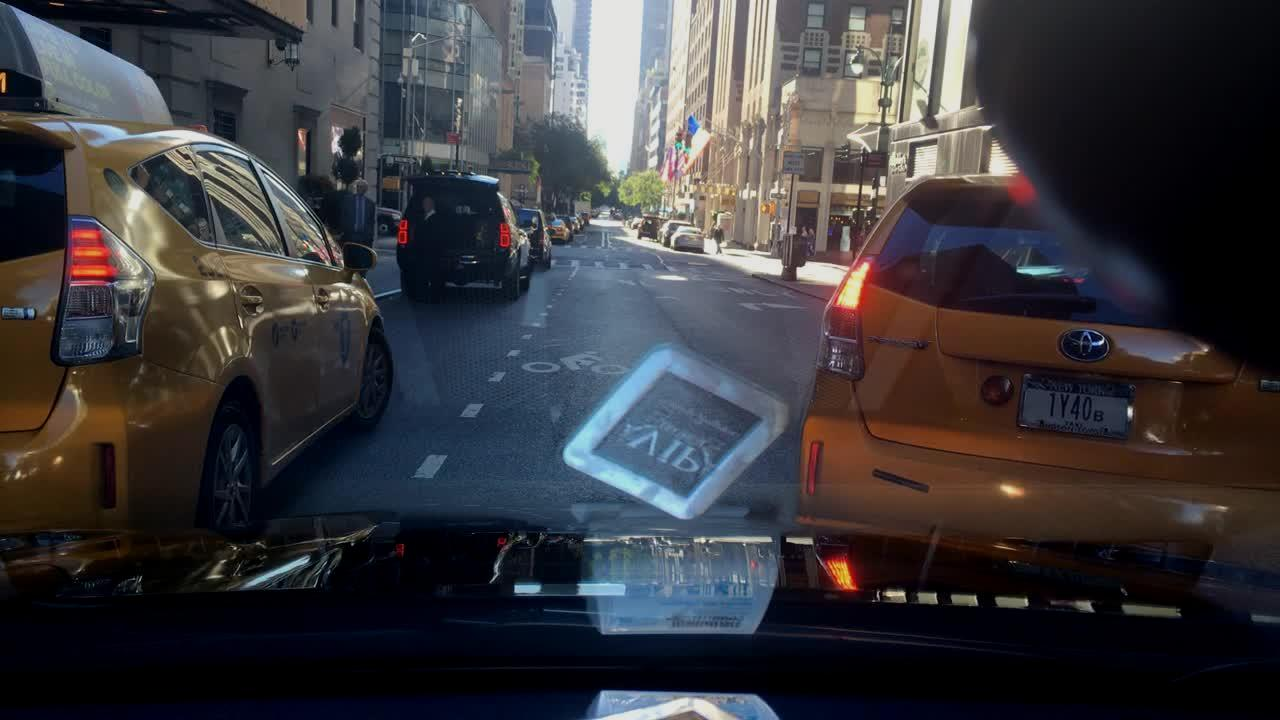Toyota: (1053, 314, 1119, 367)
